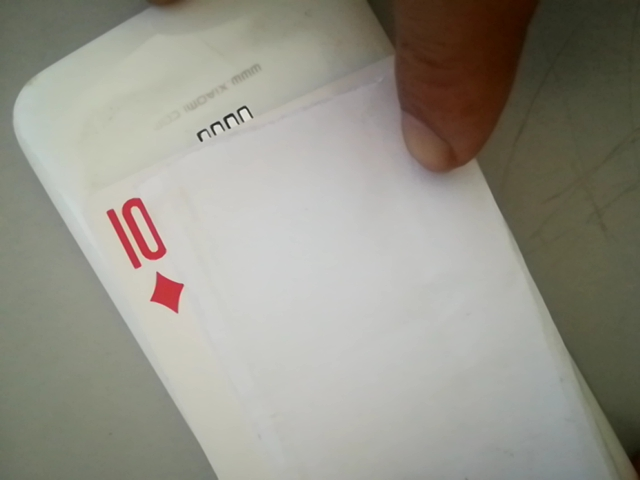fk 10: (101, 189, 191, 317)
